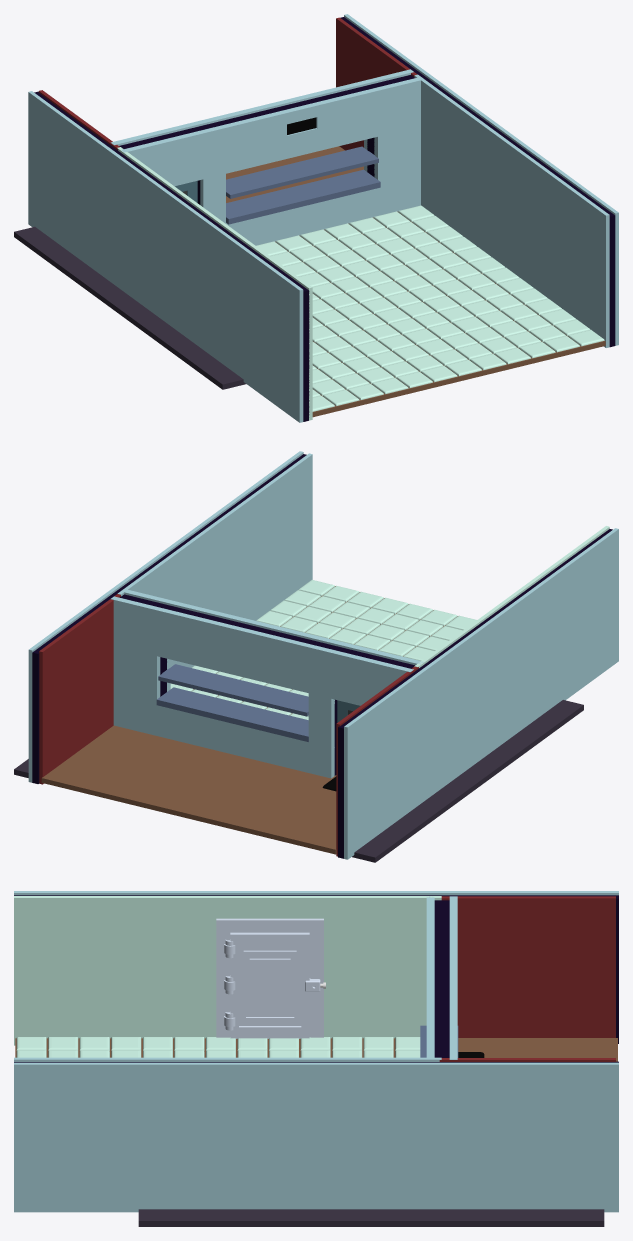
Rendered from Kitchen Room (1).fbx.
3 renders of one model, top to bottom at view 1: azimuth 30°, elevation 25°; view 2: azimuth 150°, elevation 25°; view 3: azimuth 270°, elevation 25°, orthographic. The views are drawn at different scales.
Parts seen in each view (by area): view 1: Cube.016, Cube.010, Cube.012, Cube.007, Cube.024, Cube, Cube.027, Cube.005, Cube.015, Cube.023, Cube.008, Cube.002 (+4 smaller); view 2: Cube.010, Cube.008, Cube.027, Cube.012, Cube.024, Cube.016, Cube.023, Cube, Cube.005, Cube.015, Cube.002, Cube.007 (+8 smaller); view 3: Cube.011, Cube.009, Cube.025, Cube.026, Cube, Cube.019, Cube.016, Cube.018, Cube.027, Cube.002, Cube.010, Cube.012 (+6 smaller).
Part boxes in pixels (bbox=[...]): Cube.016: bbox=[256, 205, 604, 411]; Cube.010: bbox=[108, 150, 303, 422]; Cube.012: bbox=[414, 74, 609, 347]; Cube.007: bbox=[121, 77, 423, 245]; Cube.024: bbox=[28, 91, 111, 279]; Cube: bbox=[14, 226, 245, 389]; Cube.027: bbox=[226, 146, 605, 417]; Cube.005: bbox=[226, 169, 380, 224]; Cube.015: bbox=[226, 146, 378, 198]; Cube.023: bbox=[336, 17, 417, 150]; Cube.008: bbox=[110, 69, 413, 171]; Cube.002: bbox=[119, 75, 414, 204]; Cube.010: bbox=[424, 528, 618, 798]; Cube.008: bbox=[110, 596, 413, 778]; Cube.027: bbox=[41, 586, 457, 854]; Cube.012: bbox=[117, 453, 312, 667]; Cube.024: bbox=[344, 668, 427, 859]; Cube.016: bbox=[170, 580, 476, 719]; Cube.023: bbox=[39, 594, 120, 784]; Cube: bbox=[14, 700, 583, 862]; Cube.005: bbox=[156, 687, 308, 741]; Cube.015: bbox=[158, 664, 308, 716]; Cube.002: bbox=[120, 594, 414, 775]; Cube.007: bbox=[121, 589, 423, 691]; Cube.011: bbox=[14, 1062, 441, 1212]; Cube.009: bbox=[14, 896, 441, 1045]; Cube.025: bbox=[439, 1062, 618, 1212]; Cube.026: bbox=[441, 896, 615, 1037]; Cube: bbox=[138, 1209, 604, 1226]; Cube.019: bbox=[230, 932, 309, 1038]; Cube.016: bbox=[16, 1037, 420, 1057]; Cube.018: bbox=[216, 918, 323, 1038]; Cube.027: bbox=[15, 1038, 617, 1061]; Cube.002: bbox=[434, 900, 449, 1057]; Cube.010: bbox=[14, 891, 441, 895]; Cube.012: bbox=[14, 1057, 441, 1061].
Bounding box in the file's own units: 1704 × 609 × 2215.
